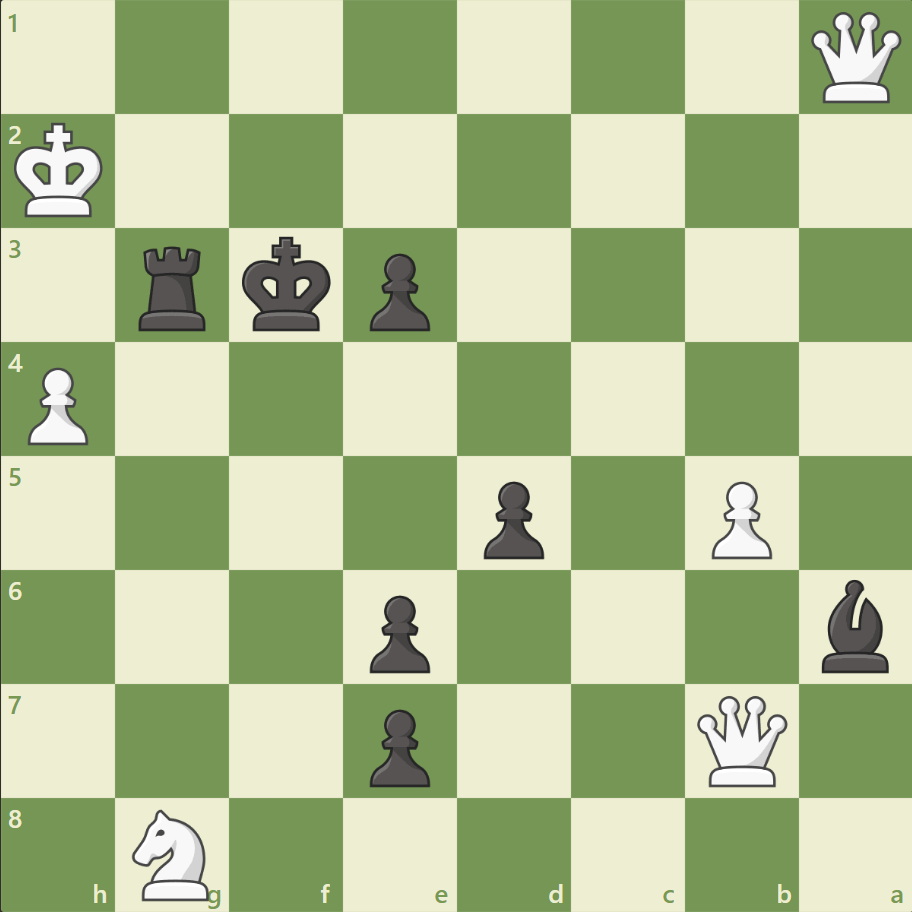K: (11, 117, 111, 225)
N: (124, 802, 222, 904)
P: (701, 473, 776, 564), (20, 359, 95, 450)
Q: (691, 690, 790, 789), (805, 9, 904, 108)
b: (812, 574, 896, 676)
k: (238, 231, 338, 339)
p: (474, 473, 549, 564), (361, 700, 435, 791), (361, 586, 435, 677), (361, 246, 435, 337)
r: (133, 239, 215, 336)
